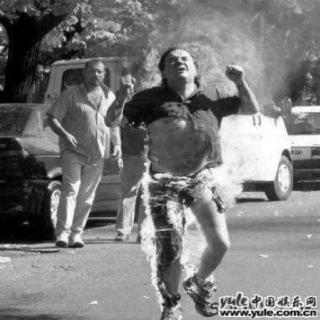other: (0, 99, 68, 239)
